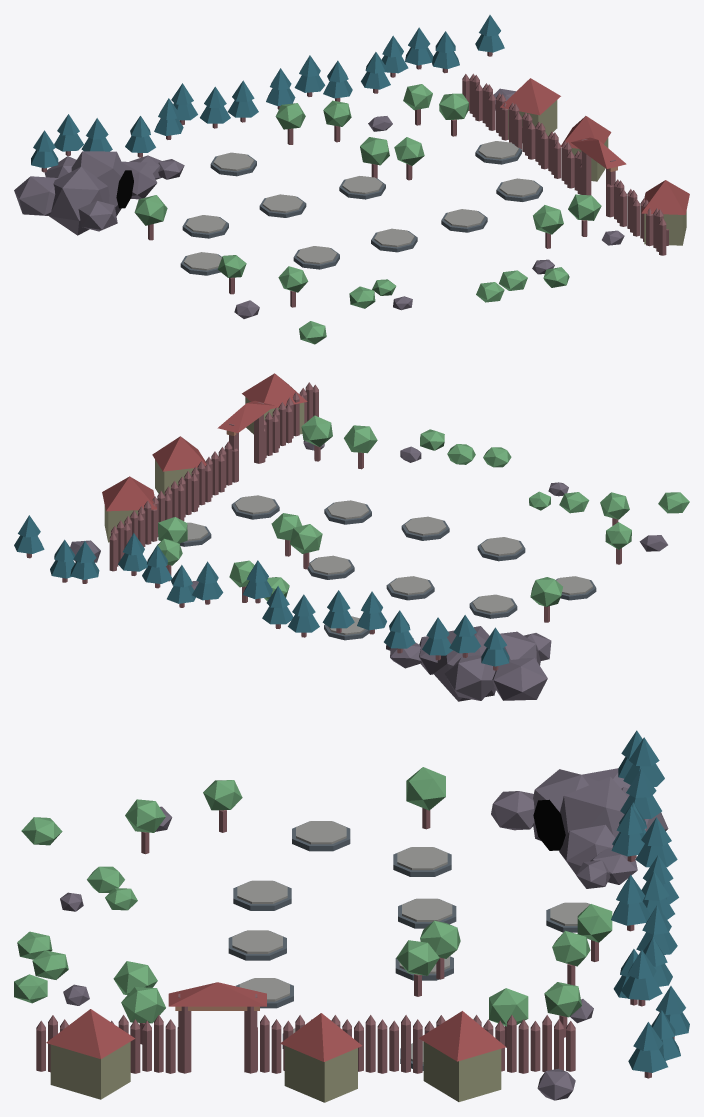
The model's file is scenery.glb.
3 renders of one model, top to bottom at view 1: azimuth 30°, elevation 25°; view 2: azimuth 150°, elevation 25°; view 3: azimuth 270°, elevation 25°, orthographic. The views are drawn at different scales.
Visible parts, largest first — view 1: Trees, Pads, Cave, Palisade, Bushes, Boulders, House2, House0, House1, GateRoof; view 2: Trees, Pads, Palisade, Cave, Bushes, House0, House1, House2, Boulders, GateRoof; view 3: Trees, Palisade, Pads, Cave, House2, House0, House1, Bushes, Boulders, GateRoof, Mouth, GateA (+1 smaller).
Part boxes in pixels (bbox=[...]): Trees: bbox=[31, 15, 601, 307]; Pads: bbox=[180, 141, 542, 275]; Cave: bbox=[14, 151, 161, 235]; Palisade: bbox=[462, 73, 666, 255]; Bushes: bbox=[299, 267, 569, 344]; Boulders: bbox=[158, 88, 624, 318]; House2: bbox=[641, 180, 689, 245]; House0: bbox=[500, 78, 560, 142]; House1: bbox=[560, 116, 611, 181]; GateRoof: bbox=[571, 137, 626, 168]; Trees: bbox=[14, 415, 631, 670]; Pads: bbox=[179, 495, 596, 640]; Palisade: bbox=[109, 382, 318, 571]; Cave: bbox=[390, 626, 551, 701]; Bushes: bbox=[420, 429, 689, 513]; House0: bbox=[102, 476, 157, 542]; House1: bbox=[152, 436, 206, 495]; House2: bbox=[242, 373, 307, 434]; Boulders: bbox=[70, 440, 667, 666]; GateRoof: bbox=[217, 400, 274, 432]; Trees: bbox=[113, 730, 689, 1078]; Palisade: bbox=[36, 1015, 575, 1073]; Pads: bbox=[228, 821, 589, 1070]; Cave: bbox=[491, 768, 668, 884]; House2: bbox=[46, 1009, 134, 1099]; House0: bbox=[419, 1011, 505, 1101]; House1: bbox=[280, 1013, 362, 1102]; Bushes: bbox=[14, 817, 137, 1003]; Boulders: bbox=[60, 806, 610, 1100]; GateRoof: bbox=[168, 982, 266, 1006]; Mouth: bbox=[533, 799, 565, 850]; GateA: bbox=[244, 994, 257, 1073].
Size of the model in its own units: 16.55 by 3.1 by 14.36.
